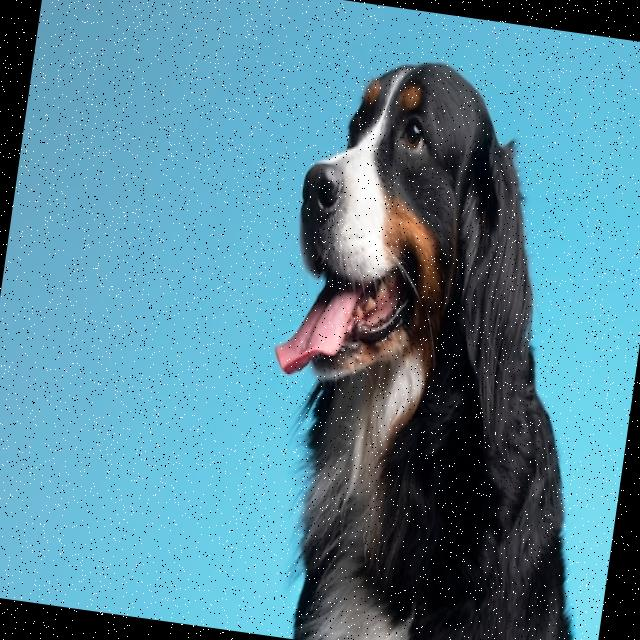Dog: (236, 42, 640, 640)
